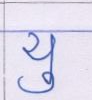u_matra: (17, 71, 58, 95)
